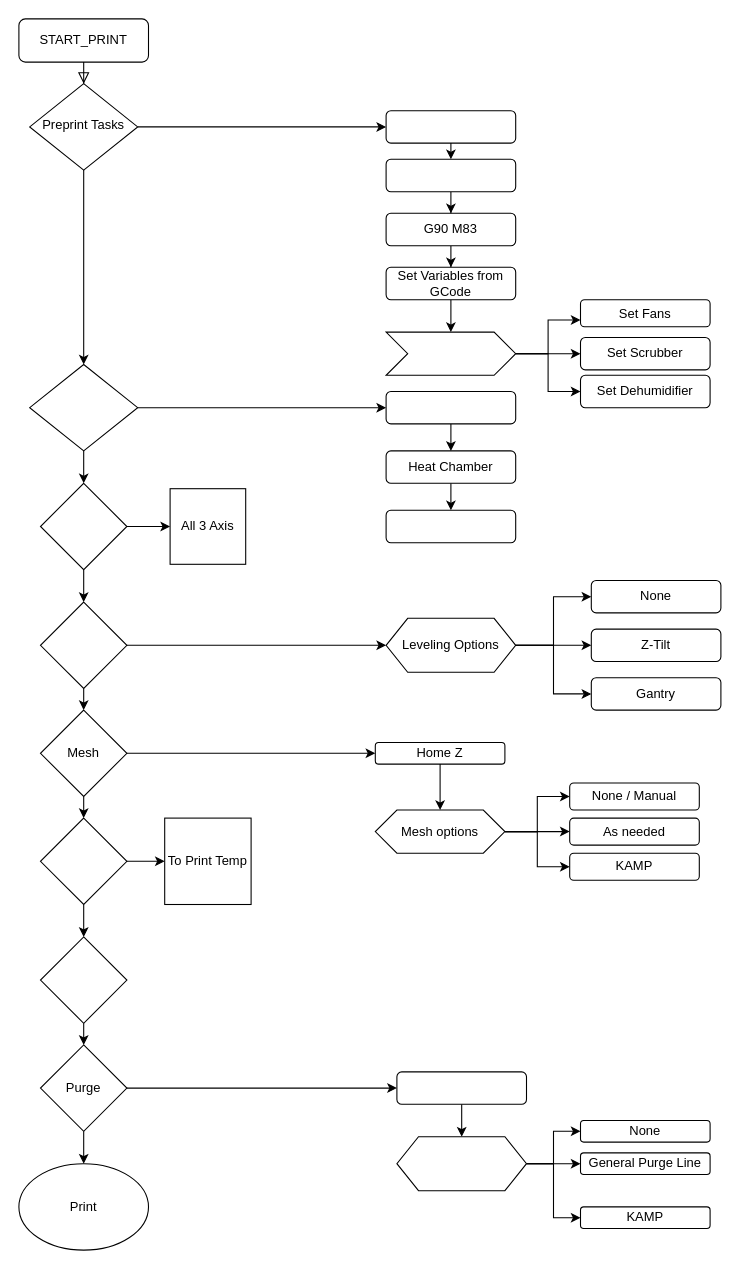
The diagram is 740 pixels wide and 1269 high, and some of its shapes have lost their labels. Here are the shapes that lost their labels. From the top down, the centre of each, then its label:
At [450,126]: "CLEAR_PAUSE".
At [450,175]: "CLEAR_ZHOP".
At [450,353]: "Enviroment Setup".
At [83,407]: "Heating".
At [450,407]: "Heat Bed".
At [83,526]: "Homing".
At [450,526]: "Preheat Nozzle".
At [83,644]: "Leveling".
At [83,861]: "Heat Nozzle".
At [83,979]: "Set Z-Offset".
At [461,1087]: "Wipe".
At [461,1163]: "Purge Line Options".
